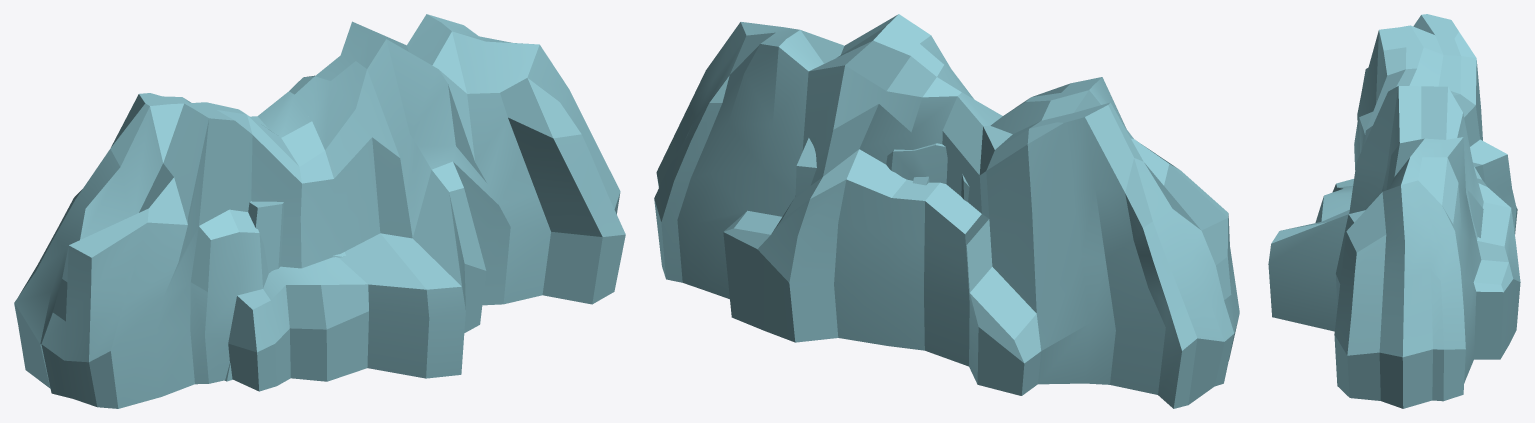
The model's file is arctic_icebergs.fbx.
3 renders of one model, left to right at view 1: azimuth 30°, elevation 25°; view 2: azimuth 150°, elevation 25°; view 3: azimuth 270°, elevation 25°, orthographic. The views are drawn at different scales.
Parts seen in each view (by area): view 1: Iceberg.004, Iceberg.005; view 2: Iceberg.004, Iceberg.005, Iceberg.002; view 3: Iceberg.004, Iceberg.002.
Boxes of the visible parts, <box> form: Iceberg.004: <box>14,14,625,408</box>; Iceberg.005: <box>248,201,284,273</box>; Iceberg.004: <box>654,14,1239,408</box>; Iceberg.005: <box>886,143,969,201</box>; Iceberg.002: <box>795,138,816,197</box>; Iceberg.004: <box>1268,14,1520,408</box>; Iceberg.002: <box>1467,190,1483,237</box>.
Bounding box in the file's own units: 11.76 × 5.49 × 5.39.
